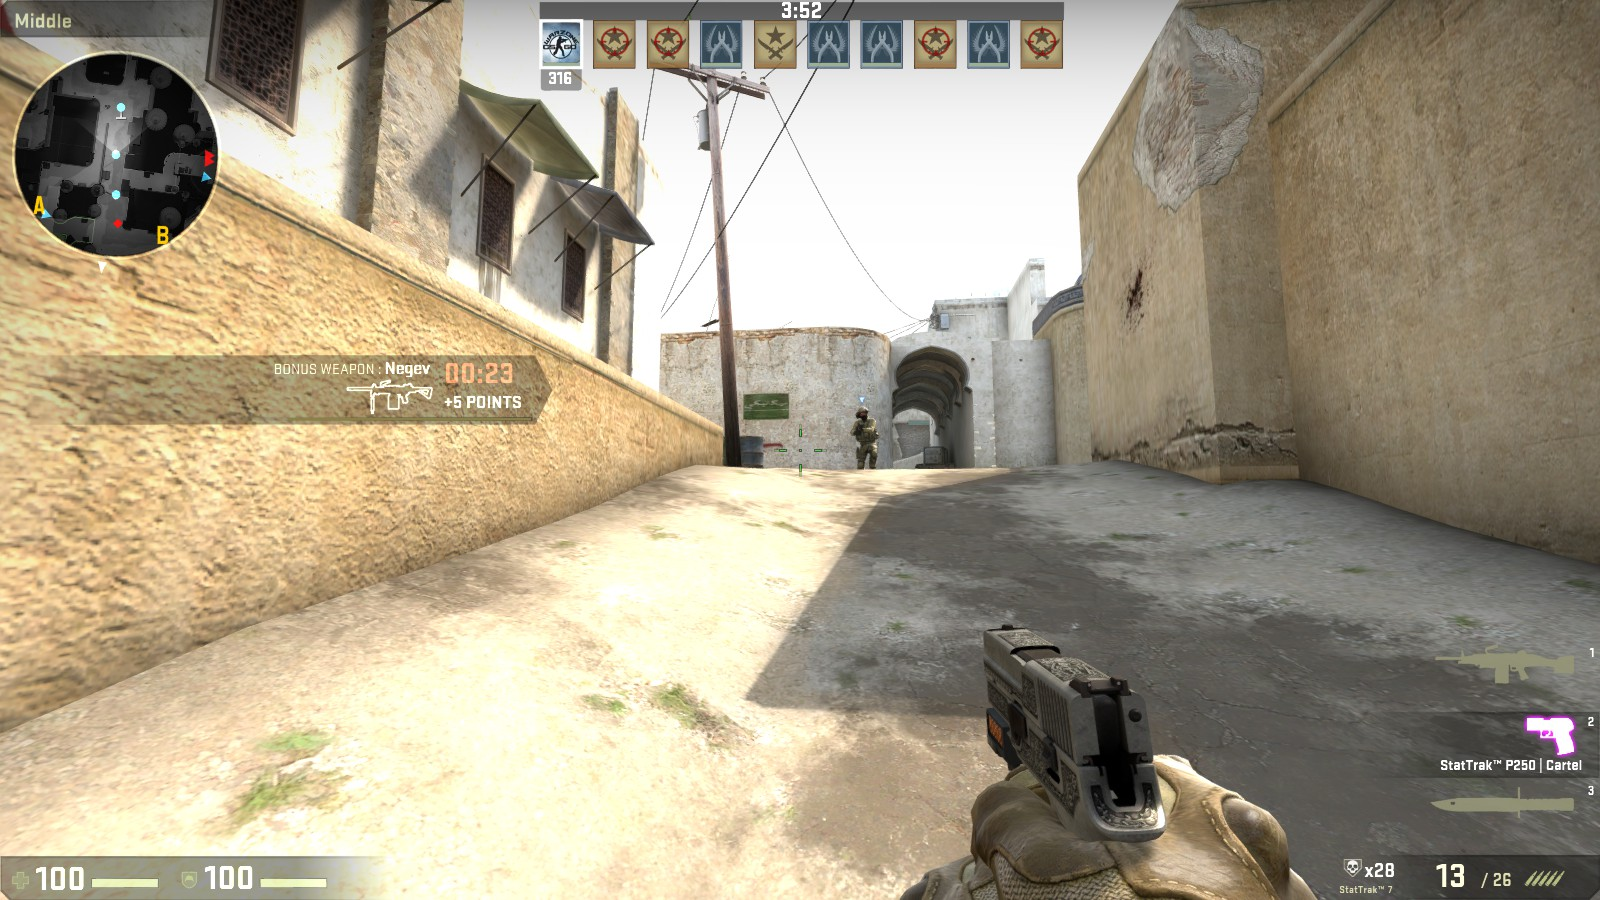c: (848, 407, 880, 469)
ch: (856, 405, 873, 423)
